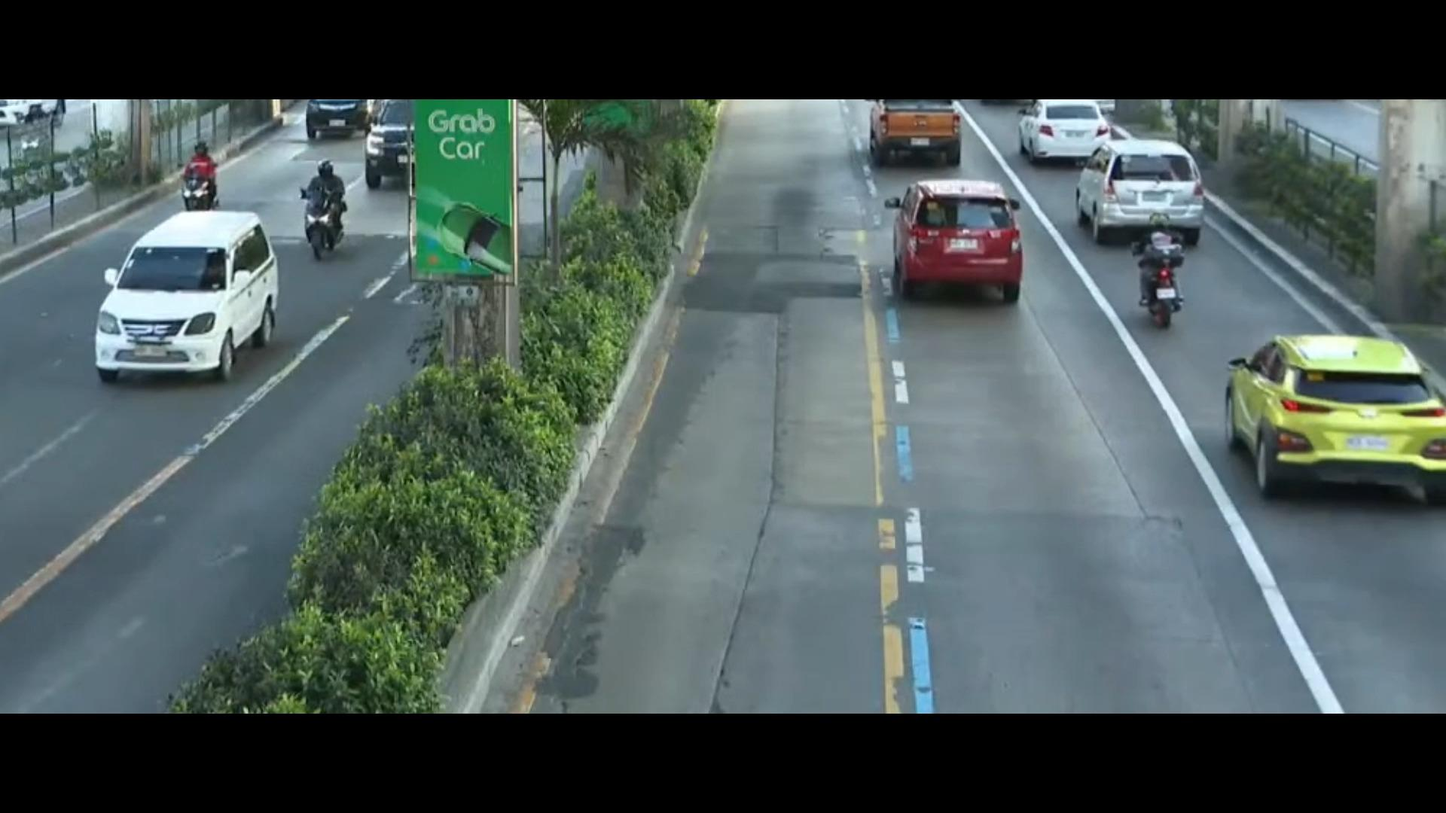Motorcycle: (1111, 206, 1202, 334), (304, 145, 351, 271), (179, 143, 232, 215)
Pickup: (861, 95, 972, 166)
SUV: (1188, 292, 1446, 523), (81, 204, 298, 396), (896, 166, 1036, 315), (1064, 134, 1239, 252), (366, 106, 418, 178)
Sedan: (1015, 93, 1128, 161)
